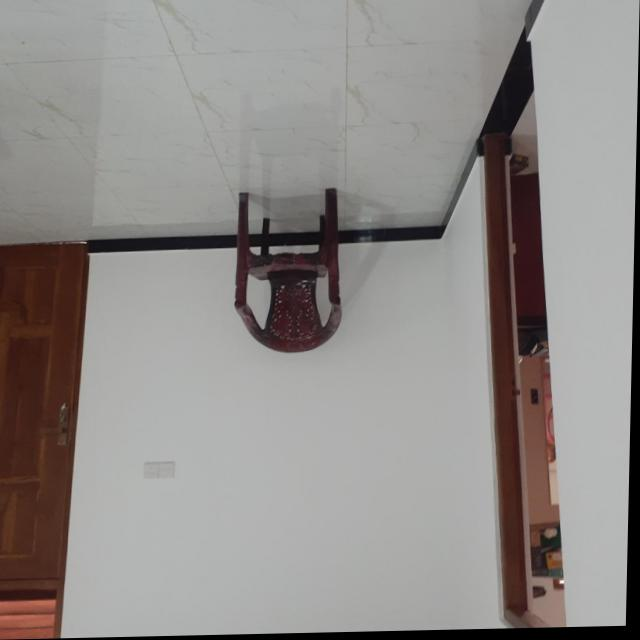Chair: (233, 187, 348, 357)
